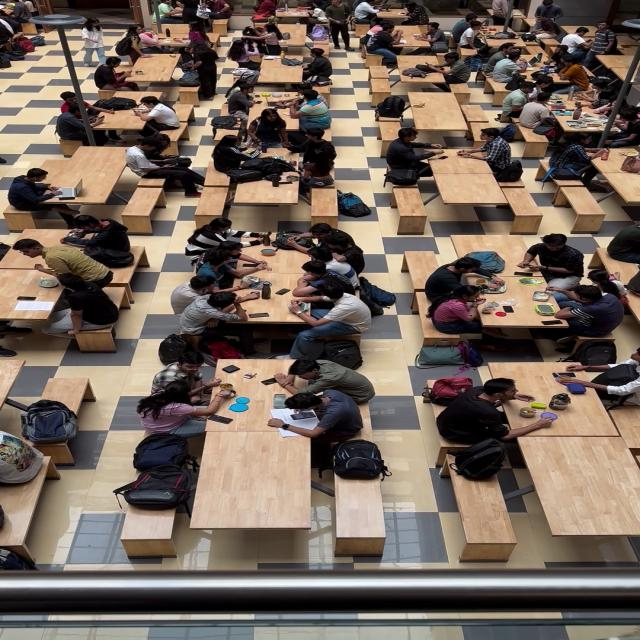Occupied: (488, 361, 622, 436), (436, 378, 550, 447), (203, 350, 302, 429), (221, 265, 324, 323), (271, 354, 375, 407), (224, 230, 334, 279), (13, 238, 114, 290), (135, 380, 227, 437), (124, 136, 204, 194), (561, 348, 640, 406), (274, 391, 370, 435), (19, 172, 117, 212), (473, 291, 572, 330), (134, 383, 210, 433), (191, 245, 270, 292), (543, 134, 608, 191), (152, 356, 224, 405), (274, 358, 384, 390), (170, 270, 250, 314), (184, 217, 269, 258), (7, 168, 73, 219), (518, 235, 585, 285), (548, 289, 624, 333), (292, 283, 372, 324), (60, 92, 120, 146), (424, 257, 490, 305), (52, 279, 120, 325), (459, 127, 518, 180), (384, 127, 442, 180), (0, 270, 69, 312), (210, 135, 270, 183), (62, 216, 132, 257), (97, 56, 170, 94), (290, 260, 355, 302), (306, 233, 363, 277), (288, 130, 336, 180), (431, 292, 488, 329), (132, 96, 180, 138), (286, 90, 332, 132), (247, 108, 289, 153), (148, 353, 213, 381), (187, 44, 219, 100), (428, 150, 502, 174), (501, 80, 543, 122), (266, 82, 328, 110), (281, 223, 337, 253), (124, 26, 167, 64), (586, 270, 630, 306), (550, 58, 591, 96), (366, 25, 401, 67), (487, 51, 530, 84), (586, 23, 617, 66), (226, 38, 266, 71), (225, 82, 261, 117), (434, 50, 472, 83), (300, 48, 332, 86), (411, 22, 447, 52), (451, 15, 483, 45), (533, 0, 563, 31), (558, 26, 588, 57), (353, 0, 381, 25), (489, 0, 514, 27), (400, 66, 444, 81), (157, 0, 182, 24), (201, 0, 231, 19), (253, 0, 279, 21), (400, 6, 436, 20), (187, 29, 225, 41)
Unoccupied: (524, 436, 640, 533), (200, 429, 312, 528), (440, 455, 518, 562), (5, 378, 94, 463), (1, 457, 53, 567), (332, 470, 386, 558), (458, 481, 518, 547), (578, 150, 640, 212), (118, 498, 180, 559), (332, 479, 386, 539), (406, 92, 470, 140), (229, 175, 300, 218), (90, 109, 166, 149), (485, 65, 567, 96), (436, 176, 510, 210), (554, 185, 607, 231), (449, 234, 528, 264), (497, 185, 546, 232), (119, 186, 166, 232), (36, 378, 93, 414), (254, 66, 312, 100), (438, 176, 503, 206), (608, 403, 640, 461), (392, 187, 428, 232), (194, 186, 232, 223), (404, 251, 441, 286), (516, 124, 551, 157), (595, 58, 637, 84), (310, 188, 338, 226), (279, 25, 313, 54), (458, 104, 489, 131), (369, 77, 392, 106), (377, 119, 400, 142)
